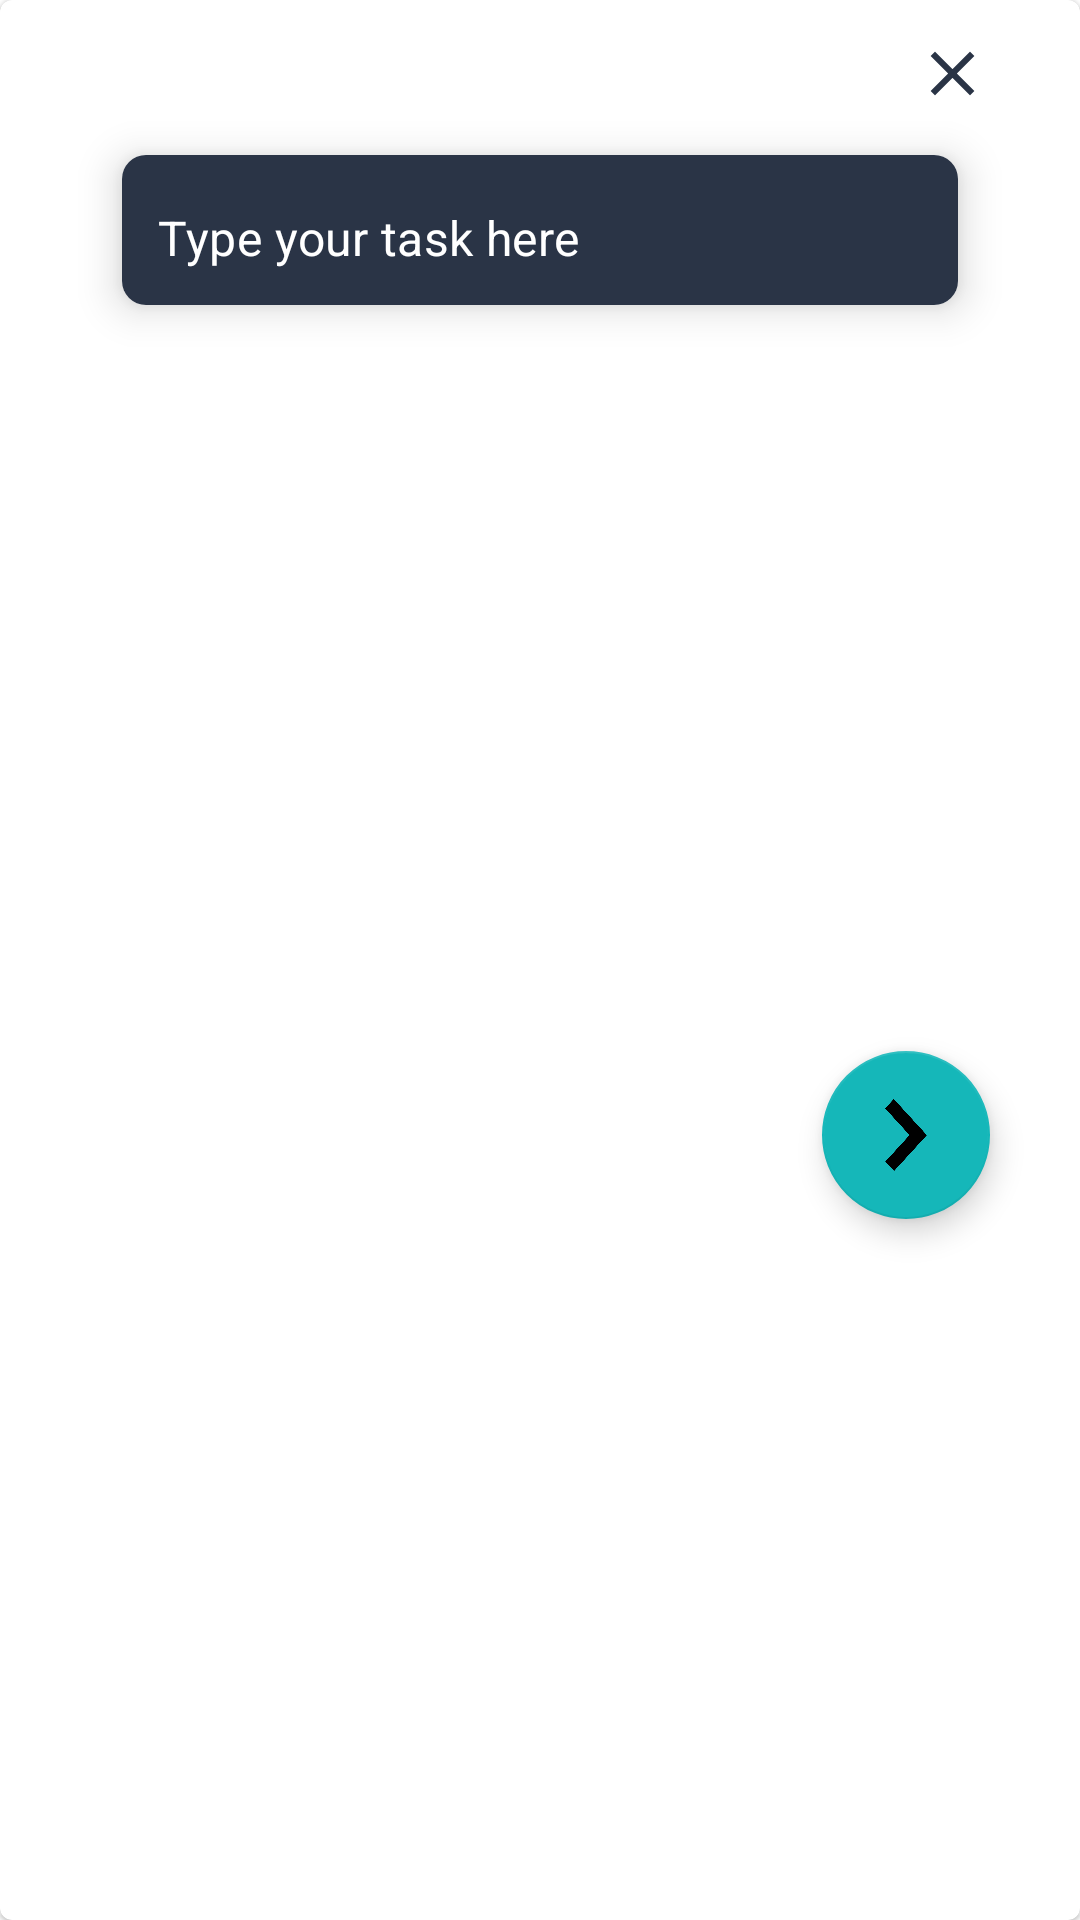

Named icons in this screenshot (1080 × 1920) and their centers, (x=x, y=y):
close: (x=952, y=73)
rightarrow: (x=906, y=1135)
